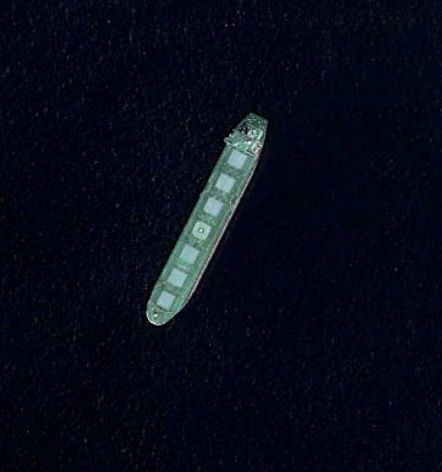boat: (146, 113, 269, 326)
